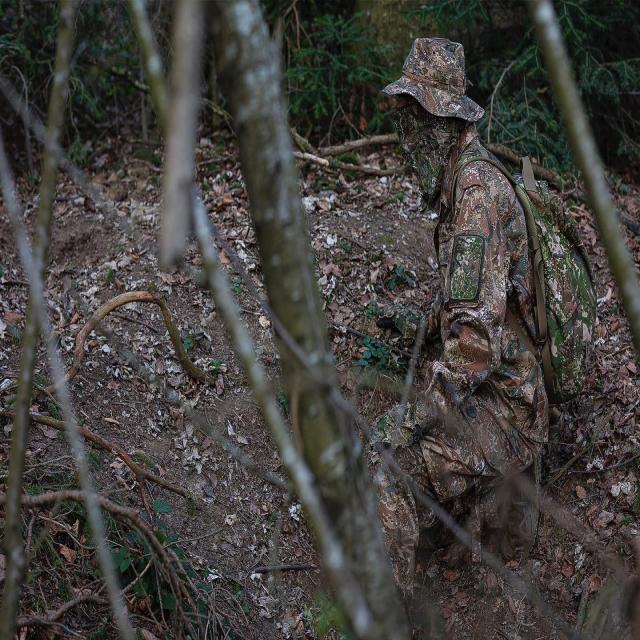Human: (362, 38, 606, 605)
